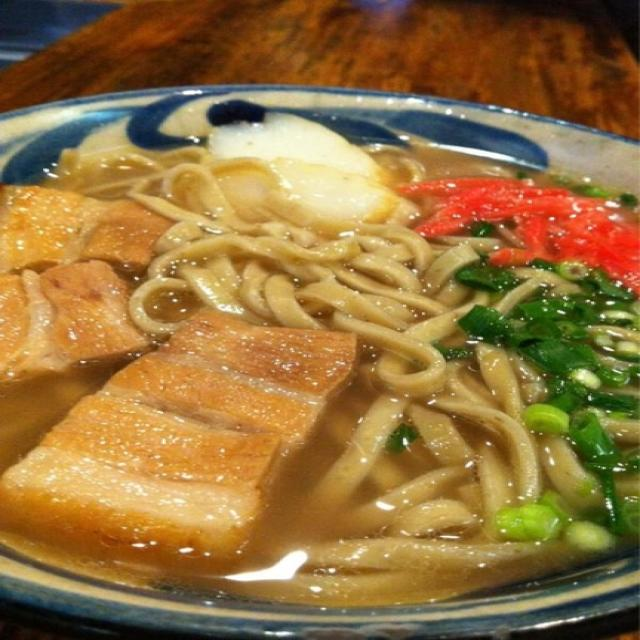蔬菜料理: (31, 61, 625, 505)
